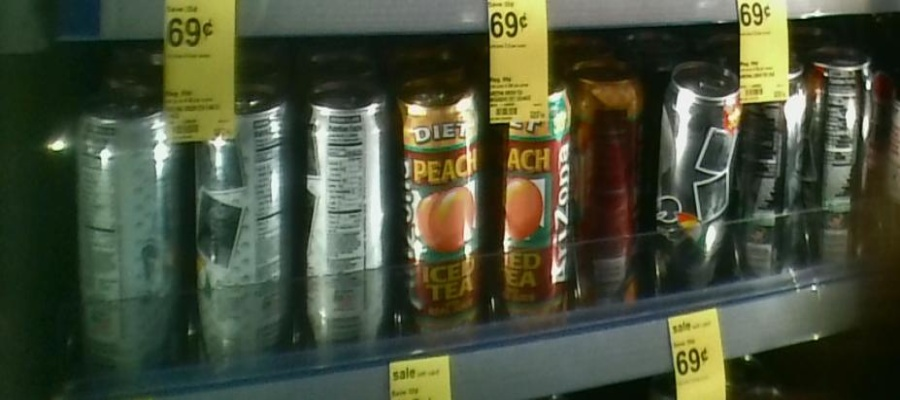bottle: (71, 87, 186, 389), (189, 88, 298, 398), (302, 76, 393, 379), (396, 69, 492, 354), (493, 51, 572, 347), (656, 53, 740, 325), (810, 40, 880, 311), (576, 56, 643, 330), (741, 51, 811, 309)
